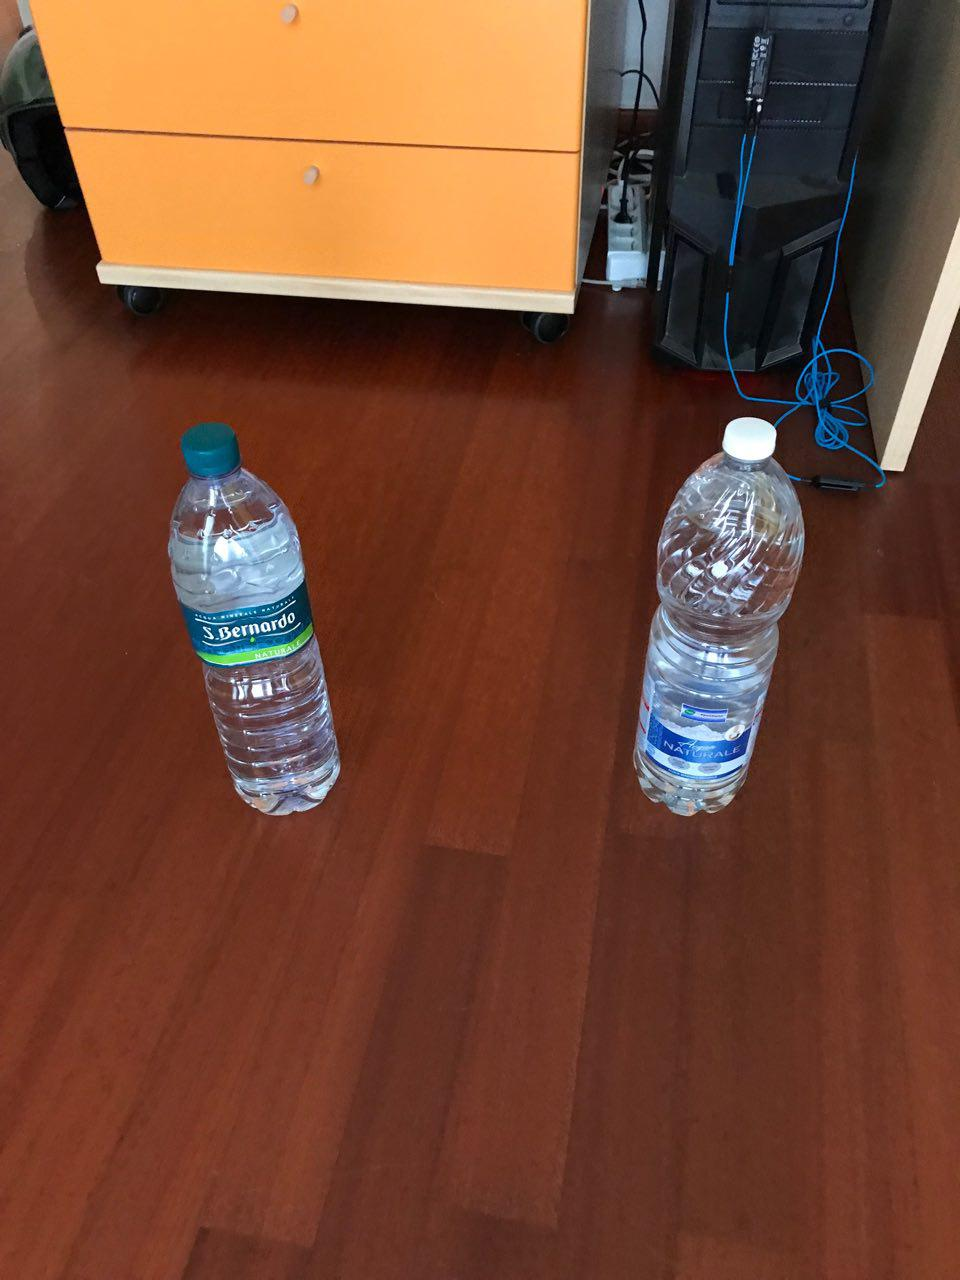san_bernardo: (166, 420, 343, 817)
